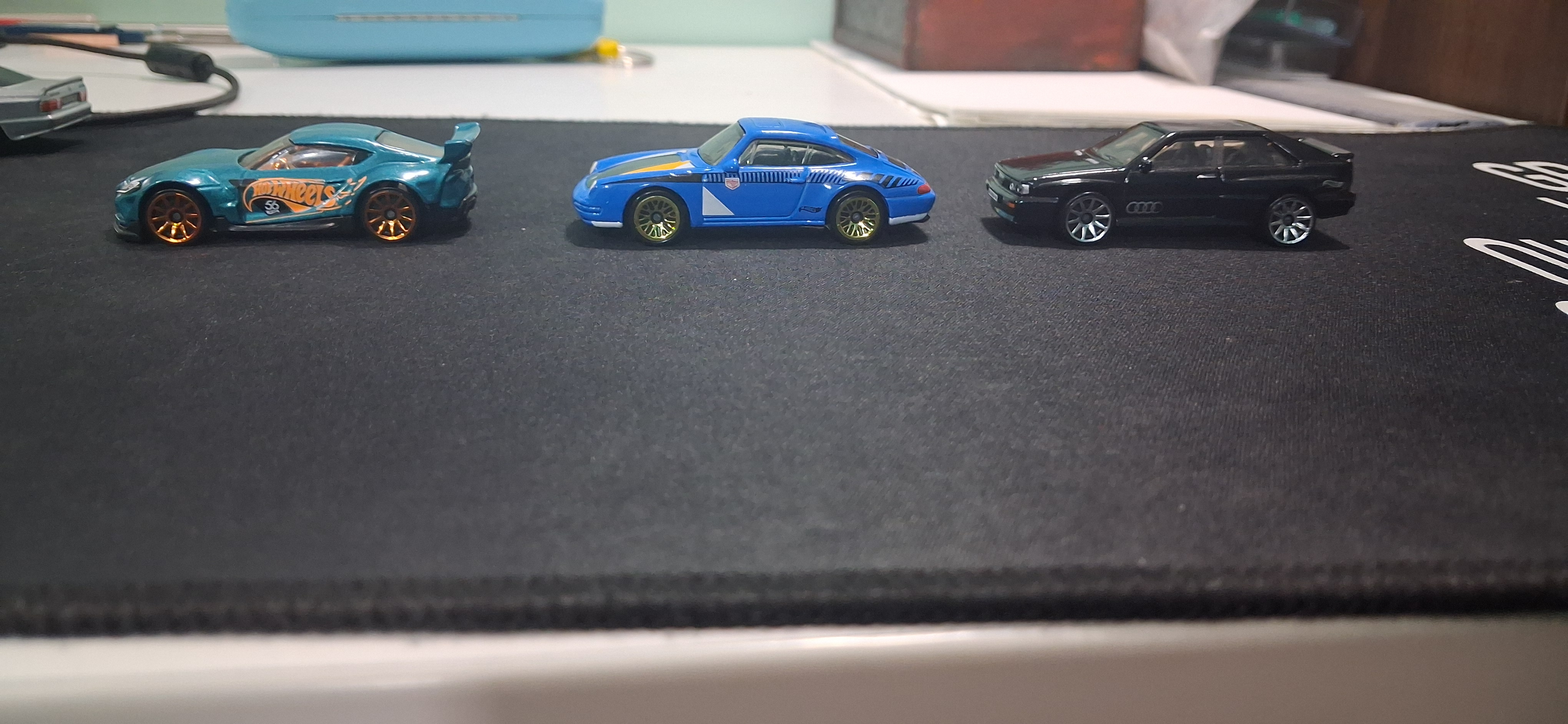Audi_Quattro: (967, 94, 1406, 275)
Porsche_Carrera: (528, 99, 946, 286)
Toyota_GR_Supra: (49, 90, 523, 262)
